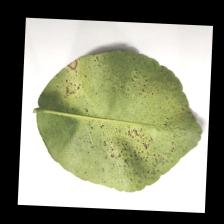canker: (66, 86, 166, 172)
